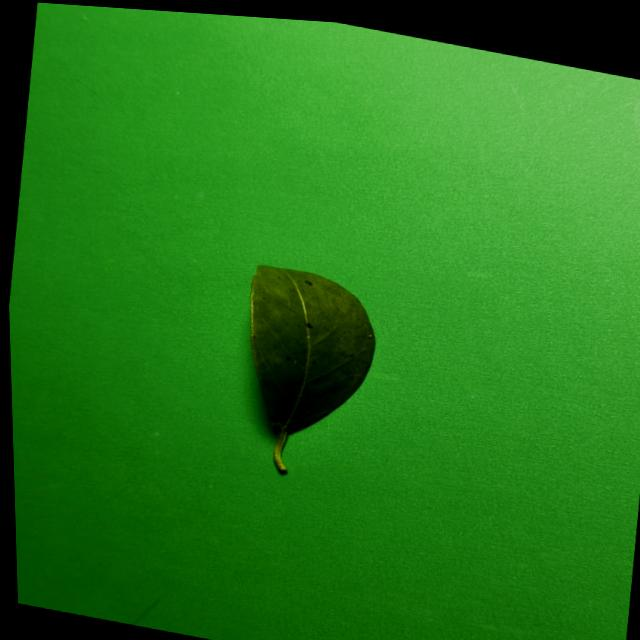greening: (250, 265, 375, 472)
